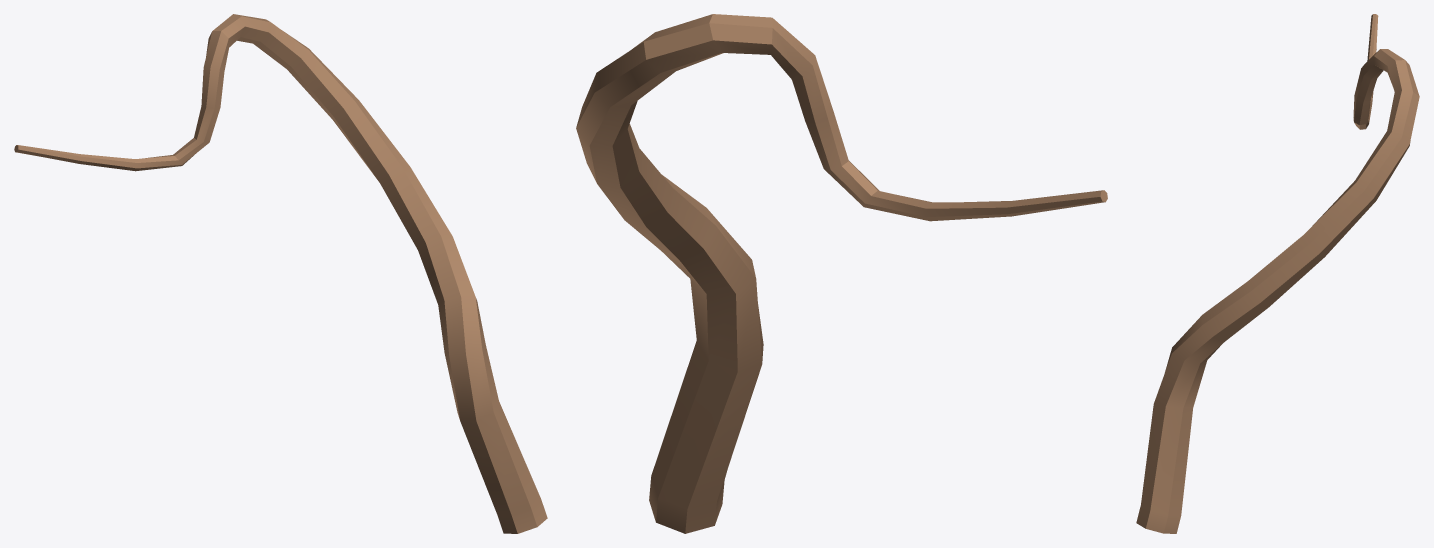
File: Root end 1.fbx
3 renders of one model, left to right at view 1: azimuth 30°, elevation 25°; view 2: azimuth 150°, elevation 25°; view 3: azimuth 270°, elevation 25°, orthographic. The views are drawn at different scales.
Parts seen in each view (by area): view 1: pCylinder6; view 2: pCylinder6; view 3: pCylinder6.
Part boxes in pixels (x1=…): pCylinder6: x1=14, y1=14, x2=547, y2=533; pCylinder6: x1=576, y1=14, x2=1107, y2=533; pCylinder6: x1=1136, y1=14, x2=1419, y2=533.
Bounding box in the file's own units: 5.65 × 6.01 × 3.79.
